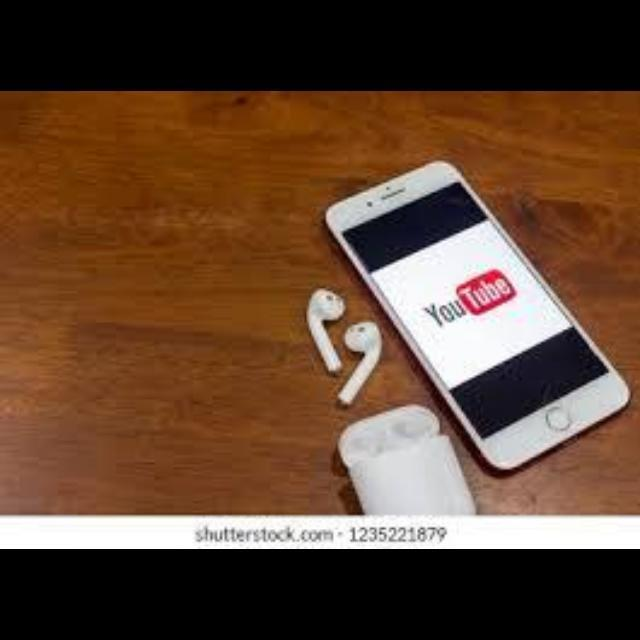phone: (265, 153, 640, 464)
